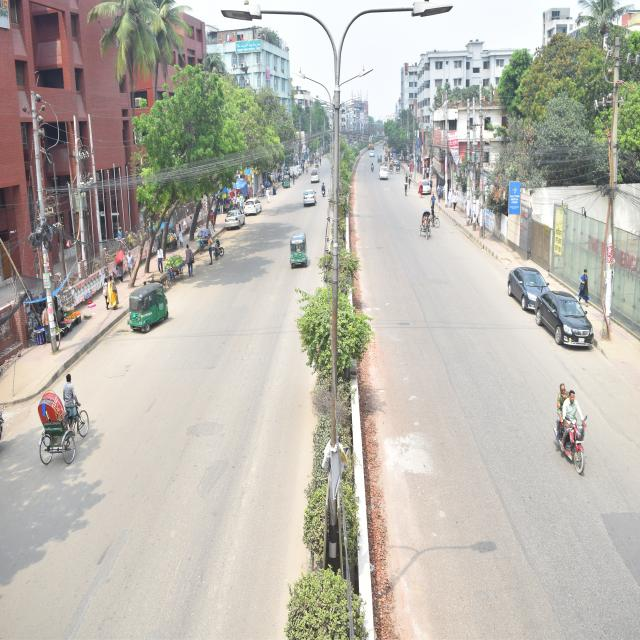car: (529, 272, 608, 369), (495, 218, 556, 329), (212, 195, 250, 239), (296, 183, 326, 230), (241, 189, 266, 223), (411, 172, 438, 199), (308, 162, 322, 192)
motorbike: (527, 371, 606, 496), (200, 233, 231, 275), (318, 180, 329, 206), (371, 154, 377, 180)
truck: (376, 152, 394, 186)
